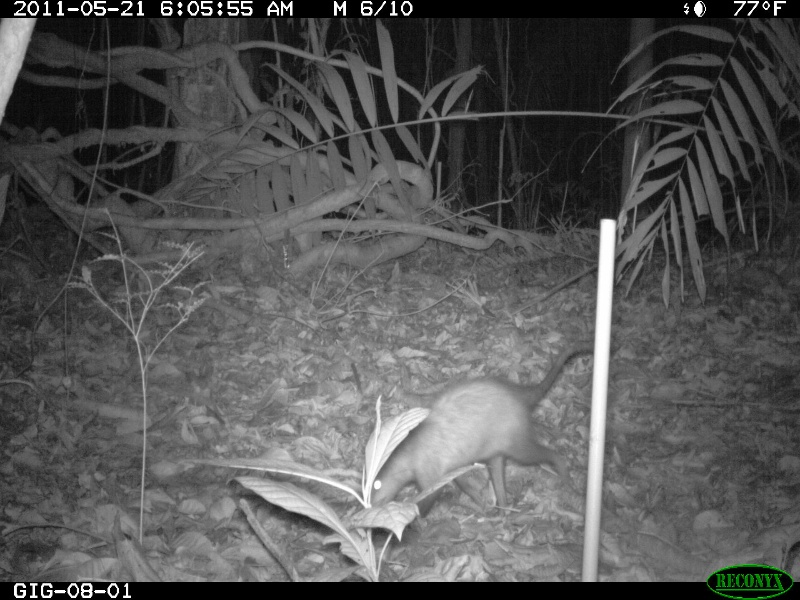opossum: (359, 332, 616, 518)
